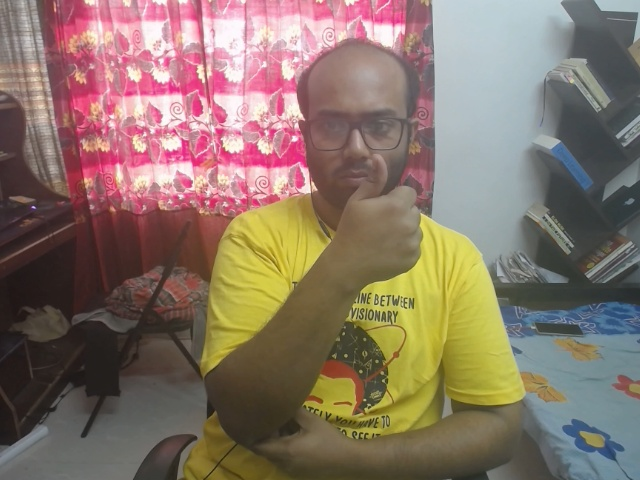six: (306, 144, 453, 303)
